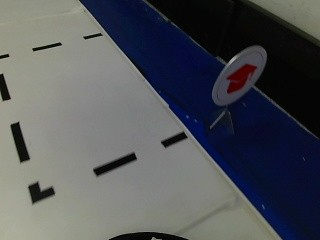school: (209, 47, 266, 104)
